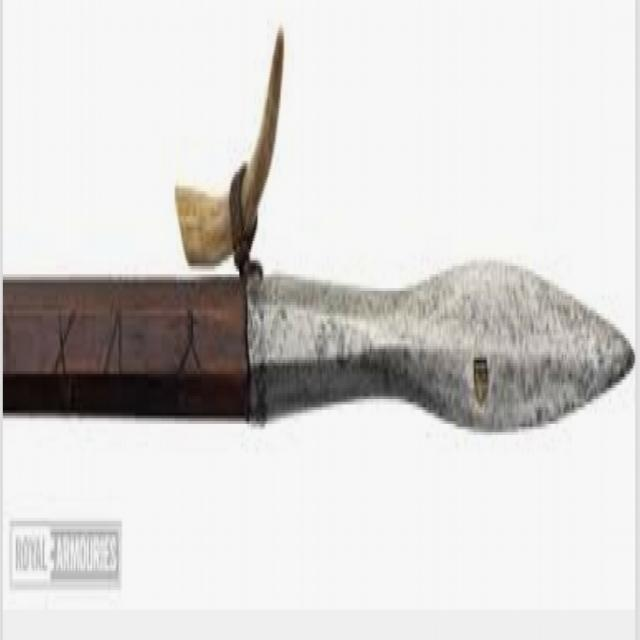spear: (0, 15, 639, 487)
